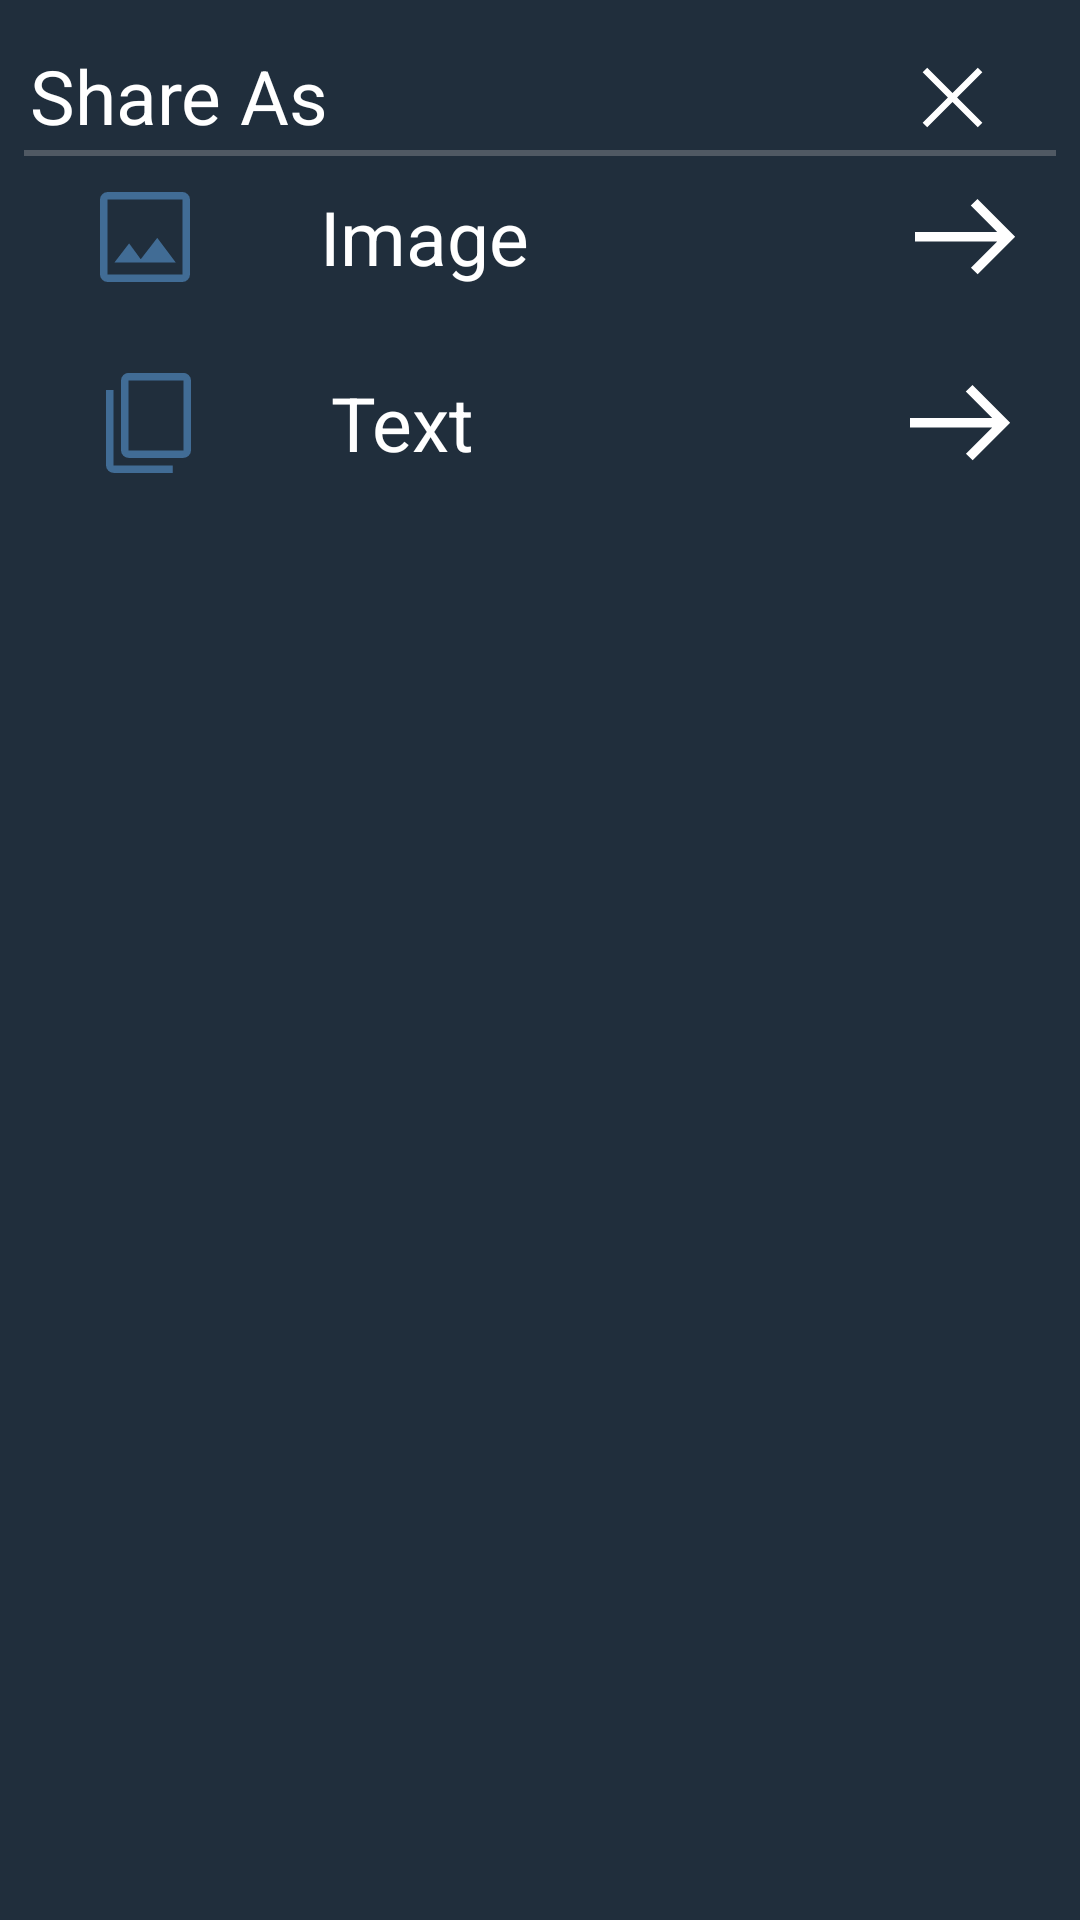

Icons on this 1080px x 1920px Android screen, each with the point to tap as (x=x, y=y):
arrow right: (x=965, y=236), (x=960, y=422)
close: (x=952, y=97)
